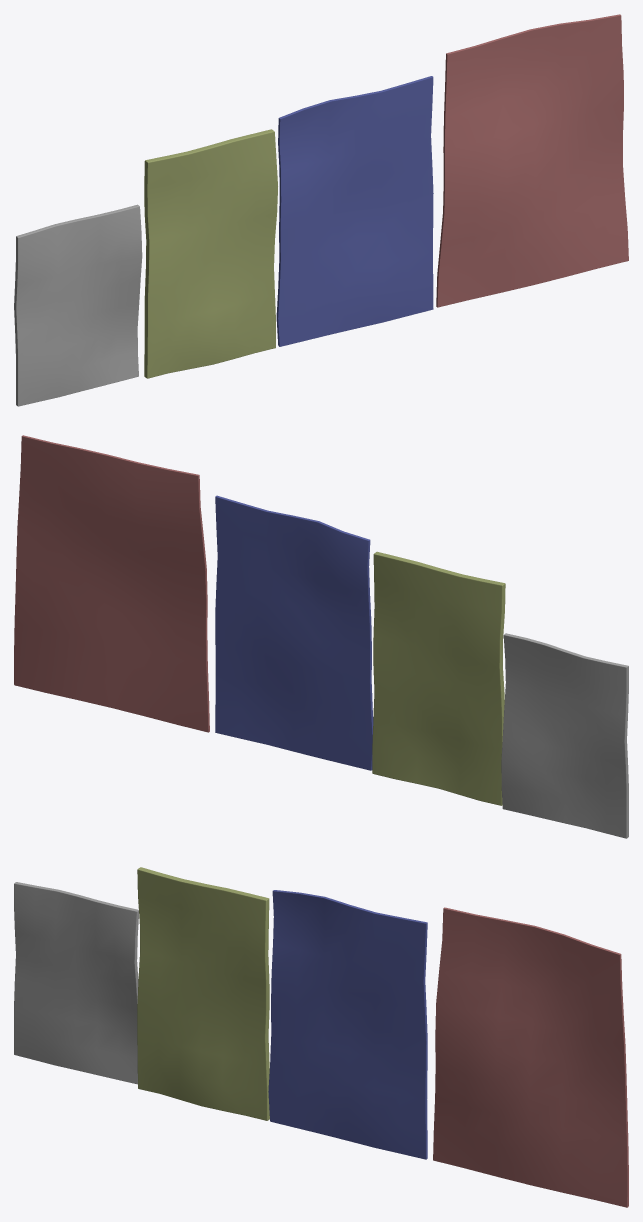
The model's file is Murs_Ruelle_1_4.fbx.
3 renders of one model, top to bottom at view 1: azimuth 30°, elevation 25°; view 2: azimuth 150°, elevation 25°; view 3: azimuth 330°, elevation 25°, orthographic.
Visible parts, largest first — view 1: pPlane4, pPlane2, pPlane1, pPlane3; view 2: pPlane4, pPlane2, pPlane1, pPlane3; view 3: pPlane4, pPlane2, pPlane1, pPlane3.
Part boxes in pixels (x1=…): pPlane4: x1=436, y1=14, x2=628, y2=307; pPlane2: x1=276, y1=76, x2=433, y2=346; pPlane1: x1=144, y1=129, x2=277, y2=378; pPlane3: x1=14, y1=204, x2=142, y2=406; pPlane4: x1=14, y1=435, x2=209, y2=732; pPlane2: x1=215, y1=495, x2=373, y2=770; pPlane1: x1=372, y1=551, x2=505, y2=805; pPlane3: x1=501, y1=633, x2=628, y2=838; pPlane4: x1=433, y1=907, x2=628, y2=1207; pPlane2: x1=268, y1=890, x2=427, y2=1159; pPlane1: x1=137, y1=867, x2=269, y2=1120; pPlane3: x1=14, y1=882, x2=138, y2=1084.
Size of the model in its own units: 1151 by 456 by 39.29.
